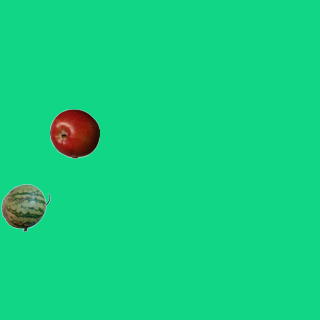Apple Braeburn: (49, 108, 99, 158)
Watermelon: (0, 182, 50, 232)
